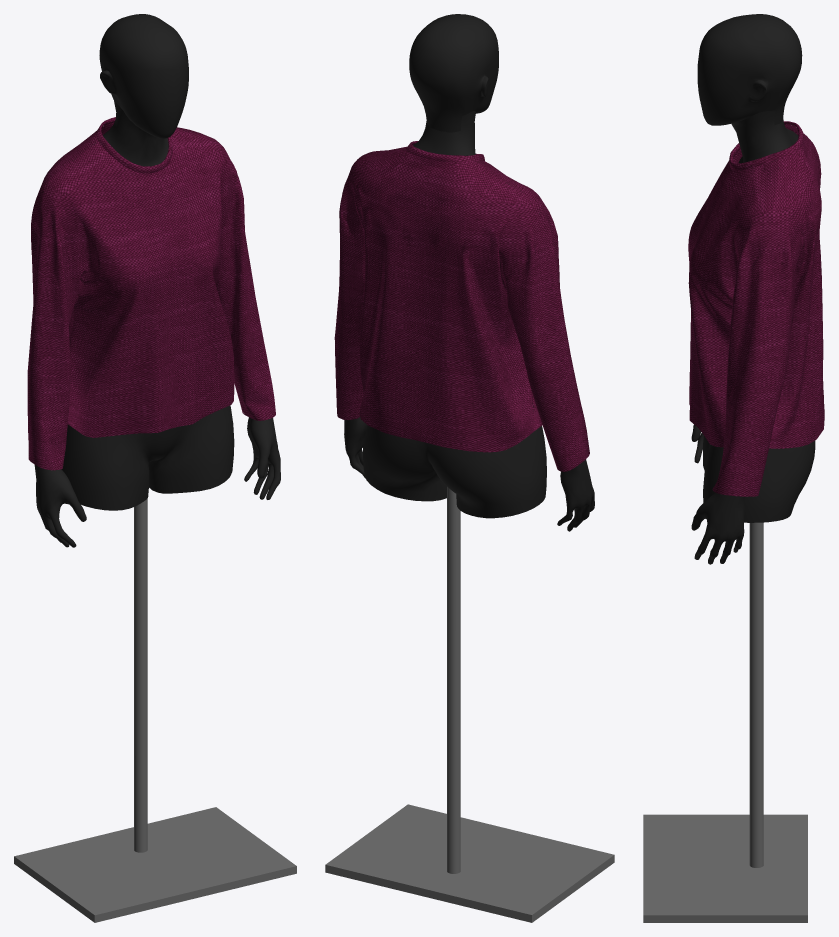
The model's file is Manikin 3.fbx.
The picture shows the model from 3 angles, left to right: view 1: azimuth 30°, elevation 25°; view 2: azimuth 150°, elevation 25°; view 3: azimuth 270°, elevation 25°; orthographic projection. The views are drawn at different scales.
Visible parts, largest first — view 1: manikin 3; view 2: manikin 3; view 3: manikin 3.
Boxes of the visible parts, x1=… form: manikin 3: x1=14, y1=14, x2=296, y2=922; manikin 3: x1=325, y1=14, x2=614, y2=922; manikin 3: x1=643, y1=14, x2=824, y2=922.
Size of the model in its own units: 52.21 by 177 by 34.06.
3 materials, 2 textured.
